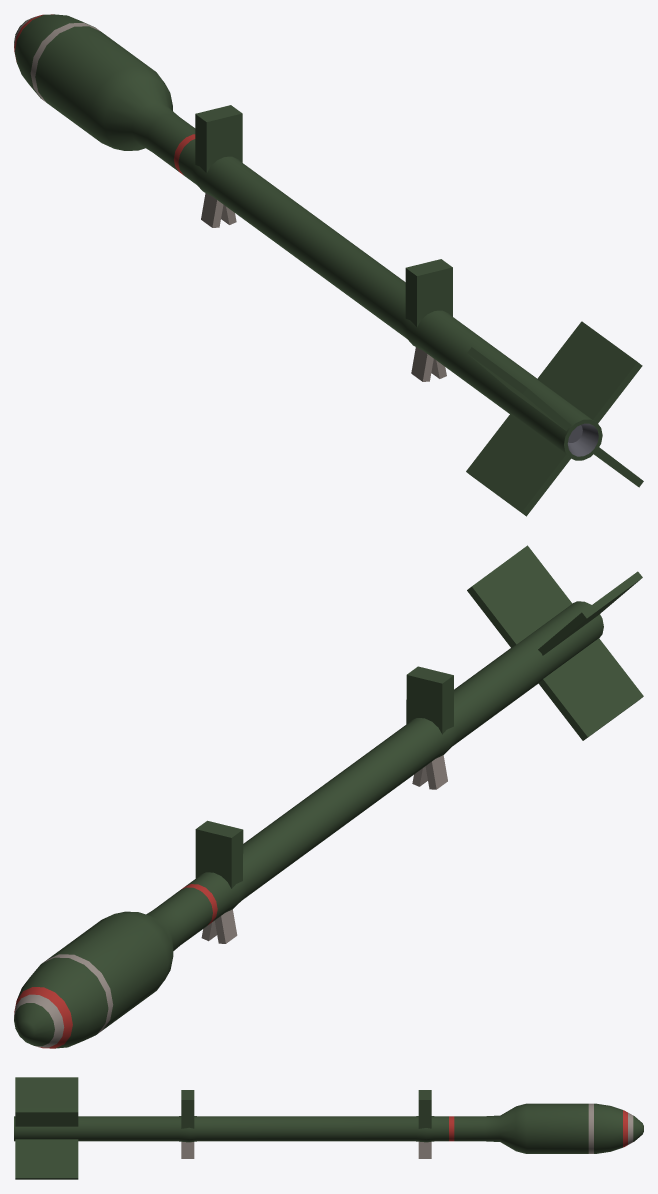
3 renders of one model, top to bottom at view 1: azimuth 30°, elevation 25°; view 2: azimuth 150°, elevation 25°; view 3: azimuth 270°, elevation 25°, orthographic. The views are drawn at different scales.
Parts seen in each view (by area): view 1: rp3; view 2: rp3; view 3: rp3.
Boxes of the visible parts, x1,y1,x2,y2 form: rp3: [14, 14, 643, 516]; rp3: [14, 545, 643, 1048]; rp3: [14, 1077, 643, 1179].
Bounding box in the file's own units: 0.2464 × 0.2472 × 1.95.
